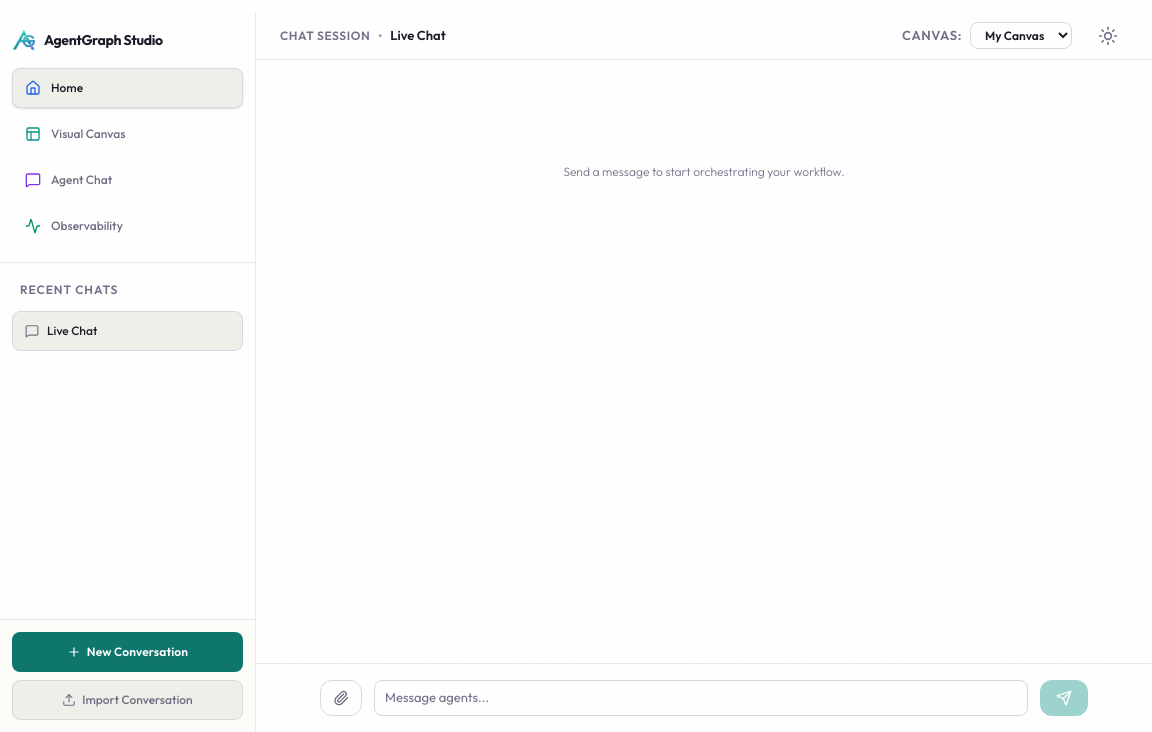
ChatPage component › replayed events after reconnect keep turn grouping visible
The width and height of the screenshot is (1152, 732).
Type "recover run" into the field with test id "chat-input" at (701, 698), box x1=374 y1=680 x2=1028 y2=716
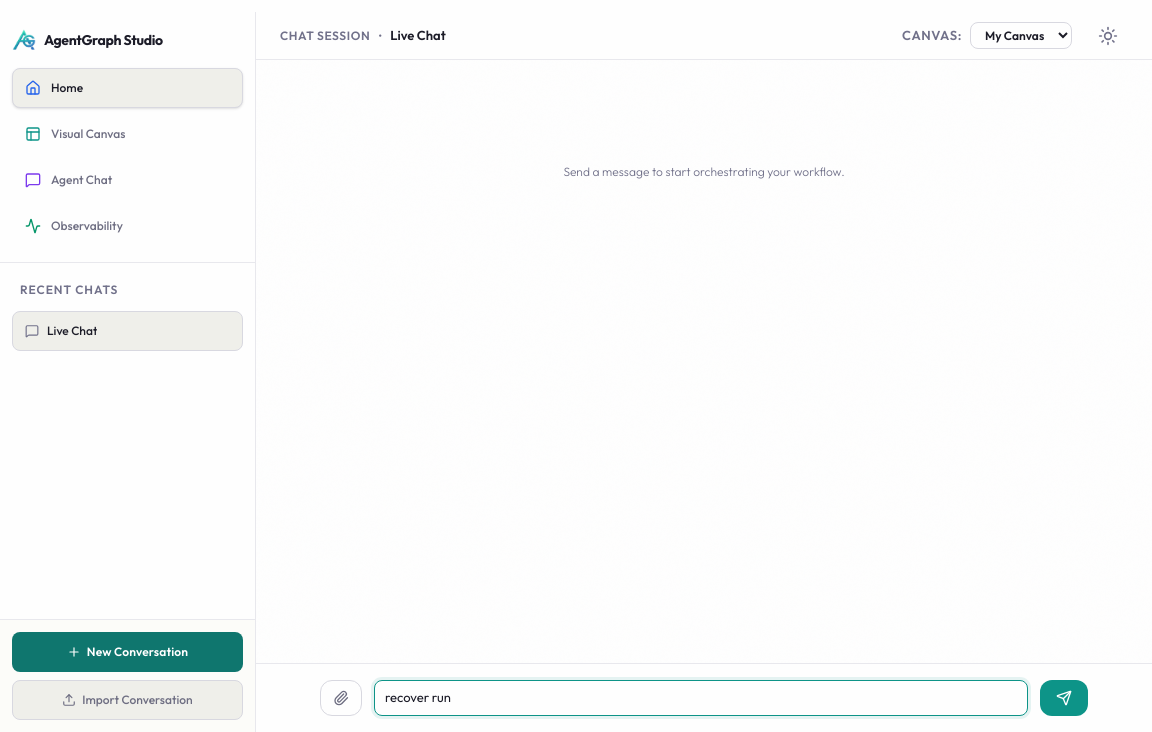
Click the button with test id "send-button" at (1064, 698), box x1=1040 y1=680 x2=1088 y2=716
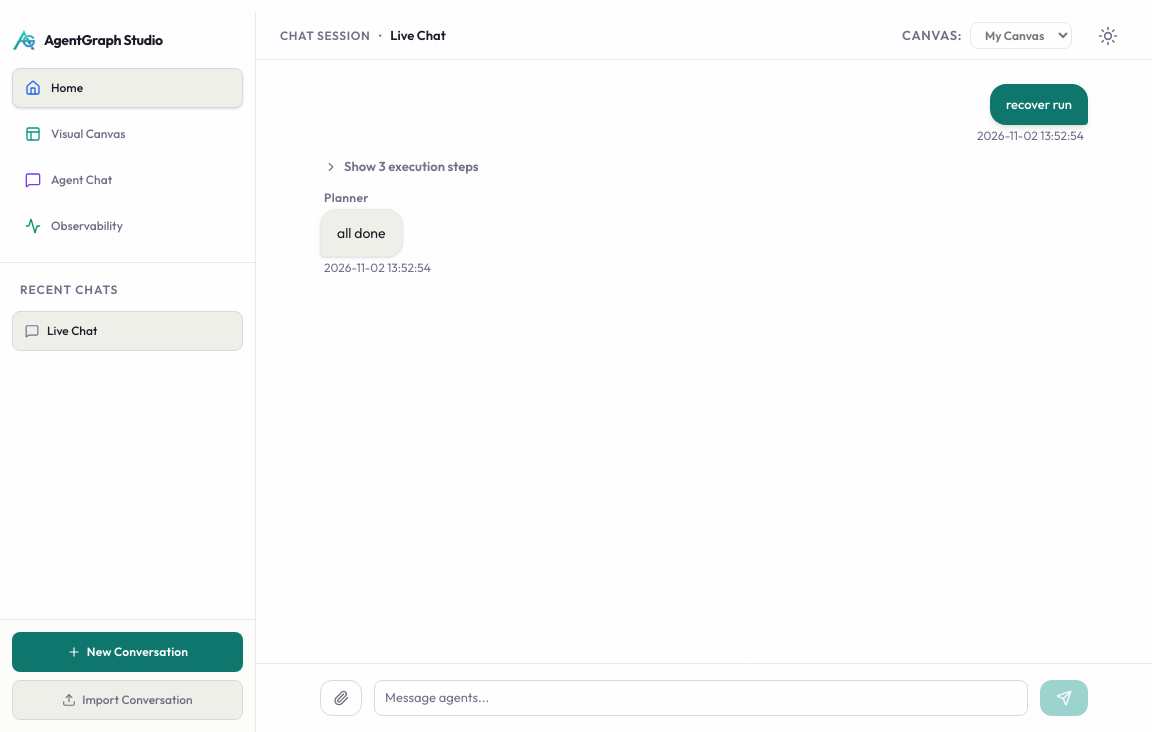
Now the text "all done" is shown, box x1=337 y1=222 x2=386 y2=244
Click the button "Show 3 execution steps" at (401, 167), box x1=320 y1=157 x2=483 y2=177
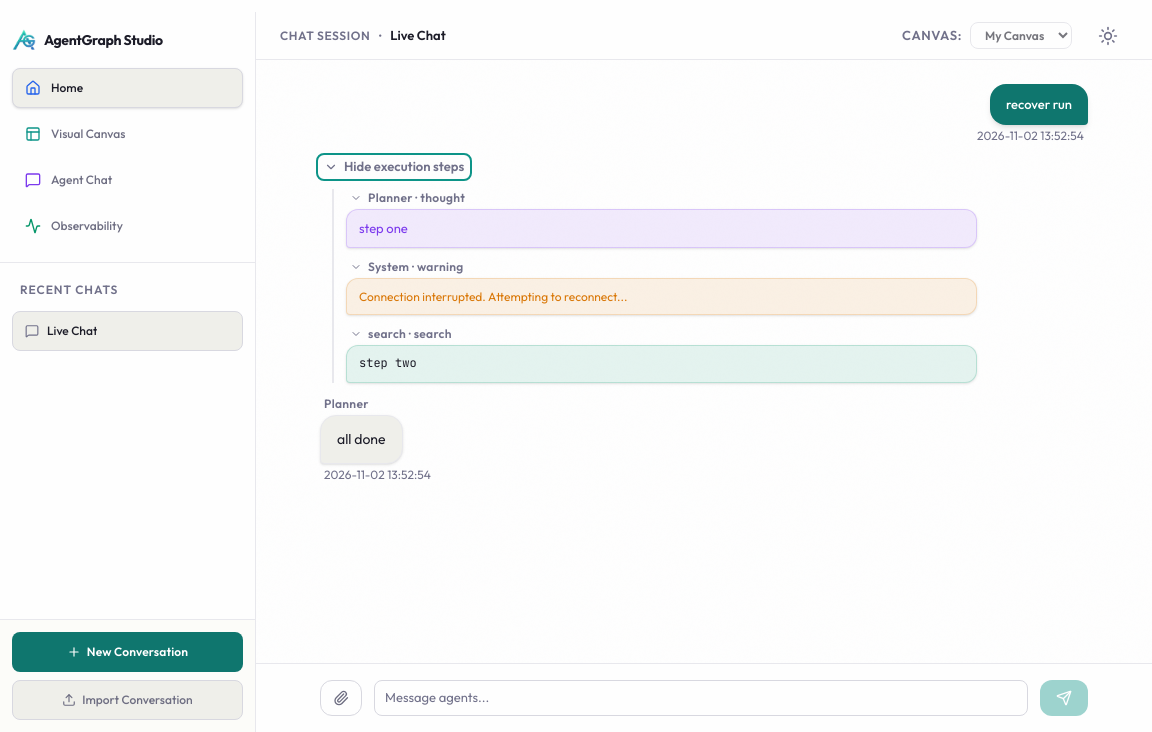
Expected: the button with test id "send-button" is shown, x1=1040 y1=680 x2=1088 y2=716
Now the text "step one" is shown, box x1=359 y1=220 x2=408 y2=236
Now the text "step two" is shown, box x1=359 y1=355 x2=417 y2=371
